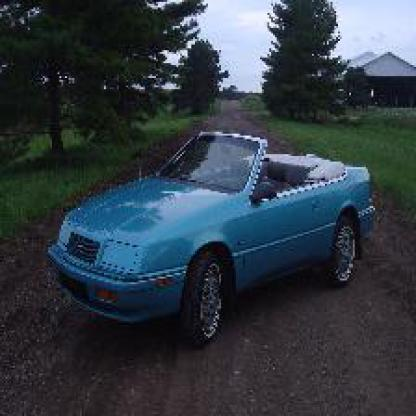not_emergency: (37, 113, 405, 370)
